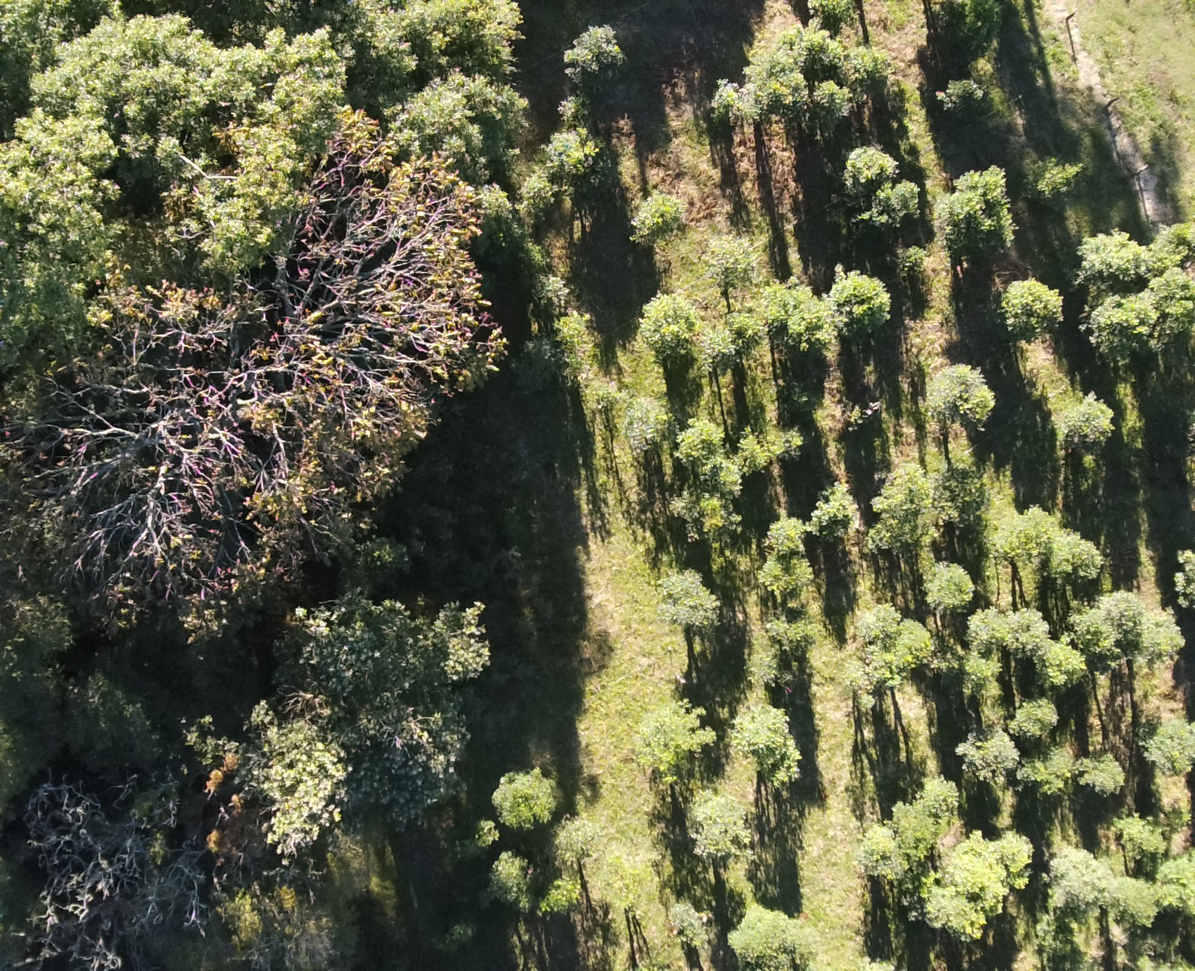erva: (630, 695, 712, 789), (937, 164, 1016, 259), (721, 898, 825, 970), (733, 705, 814, 789), (677, 793, 764, 862), (870, 465, 937, 550), (817, 262, 892, 330), (999, 276, 1068, 349), (480, 760, 554, 828), (919, 366, 996, 431), (1044, 838, 1107, 916), (848, 171, 928, 231), (1055, 391, 1122, 461), (656, 574, 718, 647), (949, 843, 1008, 919), (634, 288, 696, 359), (1108, 813, 1175, 878), (699, 224, 759, 296), (915, 887, 984, 949), (750, 261, 807, 335), (1044, 525, 1111, 587), (1087, 309, 1151, 367), (1032, 641, 1097, 698), (1061, 228, 1137, 276), (1069, 599, 1124, 665), (1096, 869, 1159, 925), (850, 820, 902, 886), (559, 25, 625, 77), (1097, 586, 1148, 651), (800, 487, 857, 545), (757, 615, 819, 668), (783, 20, 846, 71), (991, 505, 1049, 560), (915, 562, 974, 616), (833, 654, 906, 697), (710, 76, 766, 131), (834, 140, 893, 192), (966, 727, 1021, 782), (1003, 604, 1057, 660), (617, 399, 665, 462), (1143, 716, 1194, 775), (884, 778, 922, 856), (1146, 275, 1194, 335), (1028, 744, 1083, 796), (625, 195, 688, 238), (555, 819, 609, 869), (1143, 599, 1182, 666), (662, 484, 718, 530), (544, 131, 600, 177), (795, 299, 836, 361), (698, 334, 753, 380), (794, 87, 851, 131), (761, 556, 816, 600), (1006, 692, 1055, 741), (668, 413, 717, 462), (482, 854, 527, 907), (533, 872, 583, 919), (992, 827, 1033, 884), (763, 64, 813, 110), (662, 890, 706, 942), (1087, 747, 1127, 804), (840, 50, 891, 94), (854, 601, 904, 645), (761, 516, 804, 567), (965, 607, 1011, 650), (898, 620, 942, 663), (955, 657, 1006, 694), (702, 459, 743, 501), (926, 775, 966, 815)
